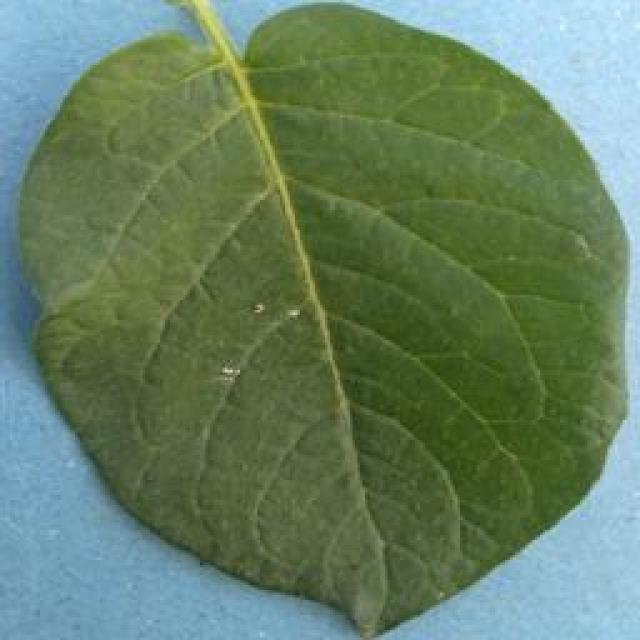Potato_Healthy: (3, 11, 630, 635)
